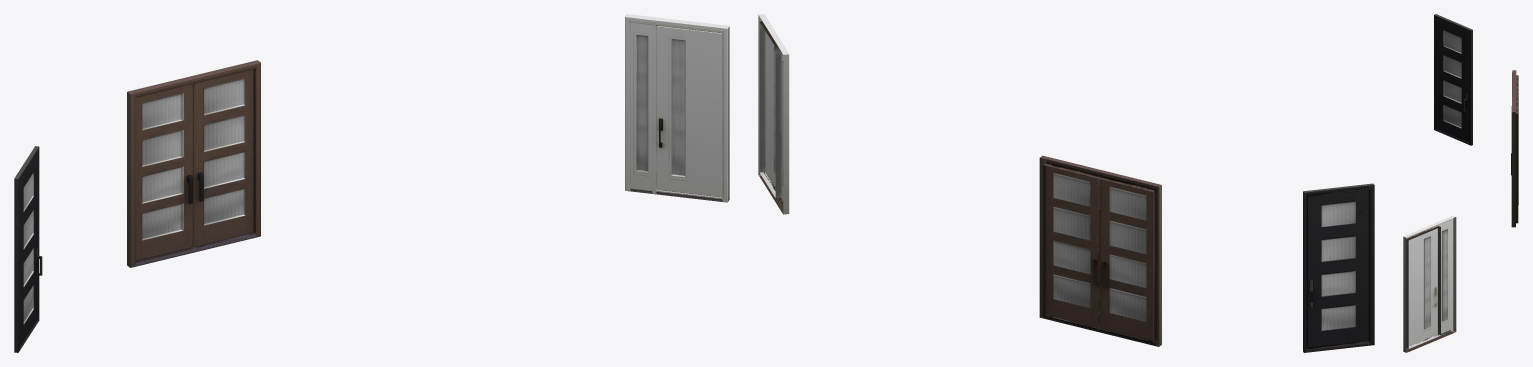
Rendered from doorbake1.fbx.
3 views of the same model, side by side, from view 1: azimuth 30°, elevation 25°; view 2: azimuth 150°, elevation 25°; view 3: azimuth 270°, elevation 25° (orthographic). The views are drawn at different scales.
Visible parts, largest first — view 1: door7, door5, door6, frame3, frame2, door4, frame1; view 2: door4, door5, door6, frame3, frame2, frame1, door7; view 3: door4, door7, frame3, frame1, frame2, door5.
Boxes of the visible parts, box(x1,y1,x2,y2) form: door7: box(657, 26, 722, 197); door5: box(193, 69, 253, 246); door6: box(135, 84, 193, 261); frame3: box(625, 14, 729, 202); frame2: box(127, 60, 260, 267); door4: box(19, 153, 42, 346); frame1: box(14, 146, 39, 352); door4: box(1307, 188, 1369, 349); door5: box(1042, 163, 1100, 330); door6: box(1097, 177, 1155, 343); frame3: box(758, 14, 789, 214); frame2: box(1039, 155, 1161, 346); frame1: box(1303, 183, 1374, 352); door7: box(763, 31, 775, 190); door4: box(1436, 19, 1468, 142); door7: box(1406, 226, 1438, 347); frame3: box(1403, 215, 1456, 352); frame1: box(1434, 14, 1472, 145); frame2: box(1511, 70, 1516, 227); door5: box(1511, 95, 1518, 223).
Size of what is drawn, in the model's own units: 81.16 by 19.51 by 17.69.
Materials: 1 (1 with a texture image).
